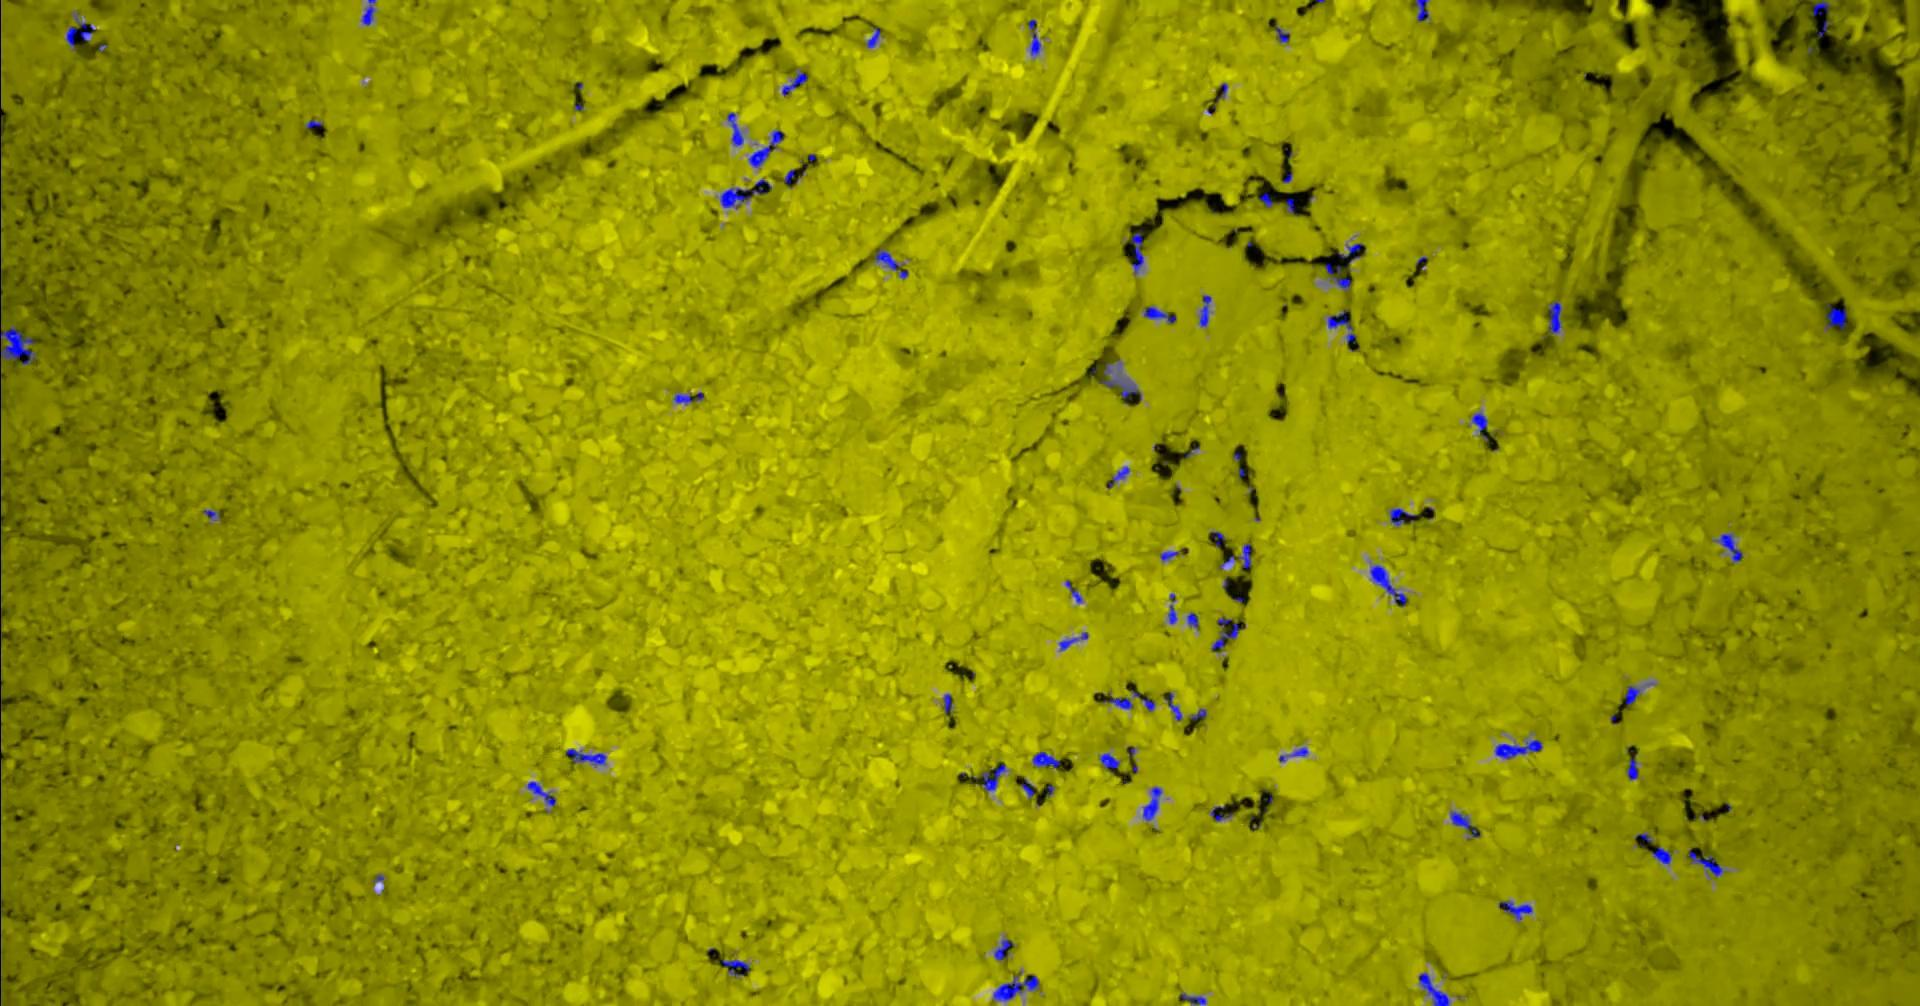ant: (1, 295, 37, 366), (1101, 363, 1143, 403), (1371, 565, 1410, 606), (721, 179, 773, 208), (750, 130, 785, 166), (994, 974, 1040, 1000), (1688, 850, 1728, 876), (67, 11, 95, 50), (1420, 972, 1451, 1005), (876, 249, 909, 279), (1330, 309, 1357, 343), (1496, 739, 1544, 758), (1213, 617, 1239, 652), (1451, 810, 1482, 838), (1220, 542, 1253, 568), (1716, 533, 1743, 561), (1326, 262, 1352, 290), (982, 763, 1007, 791), (530, 781, 557, 807), (1144, 786, 1163, 821), (1500, 901, 1534, 920), (568, 748, 607, 765), (783, 72, 809, 97), (728, 112, 745, 146), (1133, 229, 1145, 273), (1060, 631, 1090, 650), (1826, 304, 1848, 329), (1338, 243, 1365, 263), (1145, 306, 1177, 323), (1029, 19, 1043, 55), (1166, 692, 1183, 720), (1034, 751, 1062, 768), (1549, 300, 1563, 334), (1390, 507, 1417, 525), (1109, 466, 1131, 486), (1473, 412, 1490, 439), (723, 959, 750, 976), (1100, 752, 1121, 772), (996, 937, 1015, 960), (1280, 747, 1309, 761), (676, 391, 705, 404), (1201, 295, 1213, 326), (1067, 580, 1083, 602), (1651, 846, 1672, 862), (363, 0, 377, 25), (1211, 805, 1234, 821), (1181, 992, 1208, 1005), (1105, 697, 1134, 708), (1625, 685, 1641, 704), (869, 27, 883, 47), (1022, 777, 1036, 798), (1628, 757, 1641, 779), (1417, 0, 1430, 20), (1815, 0, 1831, 15), (1277, 24, 1290, 42), (1260, 192, 1274, 207), (1213, 531, 1227, 546), (1142, 697, 1157, 711), (1288, 197, 1299, 215), (1189, 612, 1200, 627), (1192, 708, 1208, 719), (1161, 551, 1180, 560), (204, 509, 221, 520), (1170, 605, 1178, 622), (945, 694, 952, 714)
